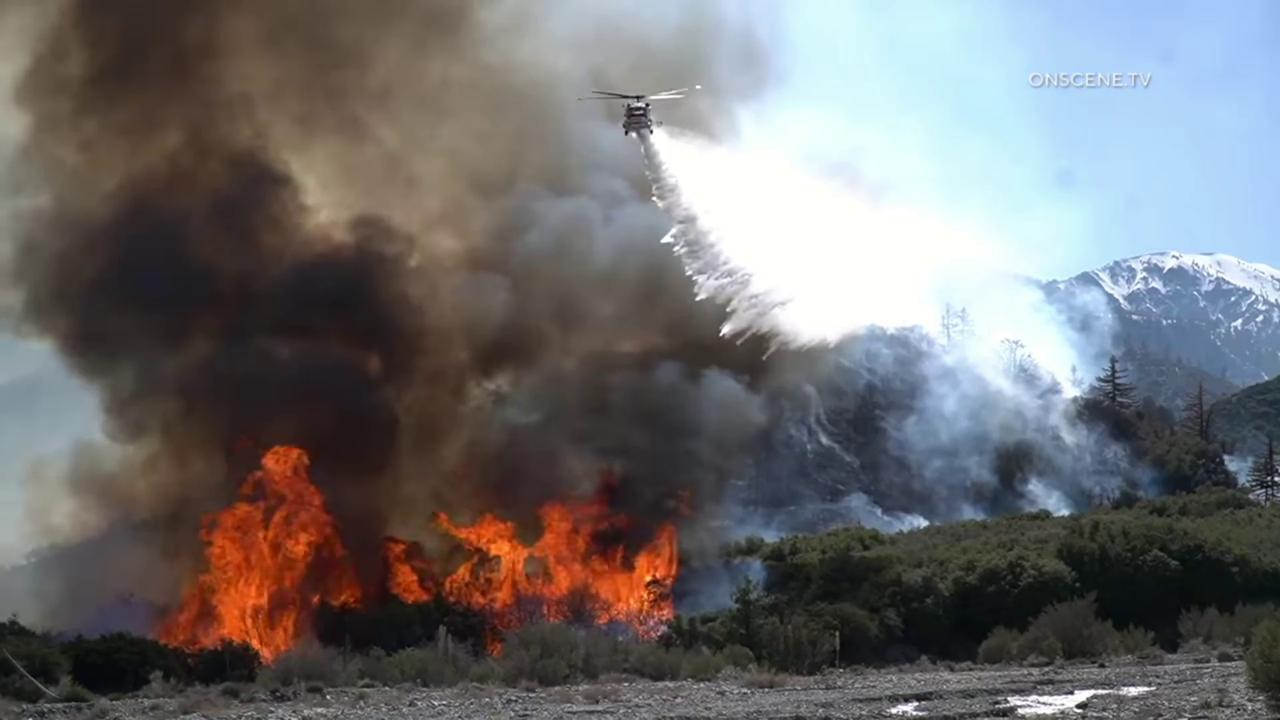fire: (381, 465, 680, 659), (141, 441, 366, 666)
smoke: (0, 0, 1160, 636), (1221, 453, 1256, 488)
